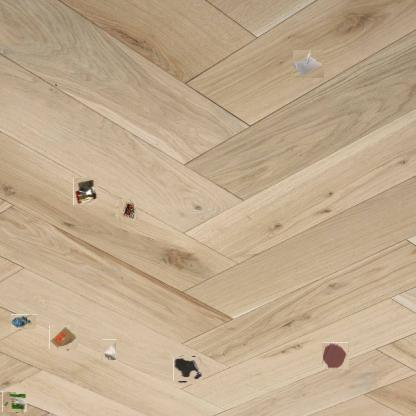dirty: (294, 51, 326, 78), (51, 324, 77, 351), (73, 177, 98, 205), (3, 391, 26, 414), (117, 200, 137, 220), (12, 314, 38, 329), (102, 339, 118, 360)
liquid: (322, 343, 349, 369), (175, 356, 201, 383)
